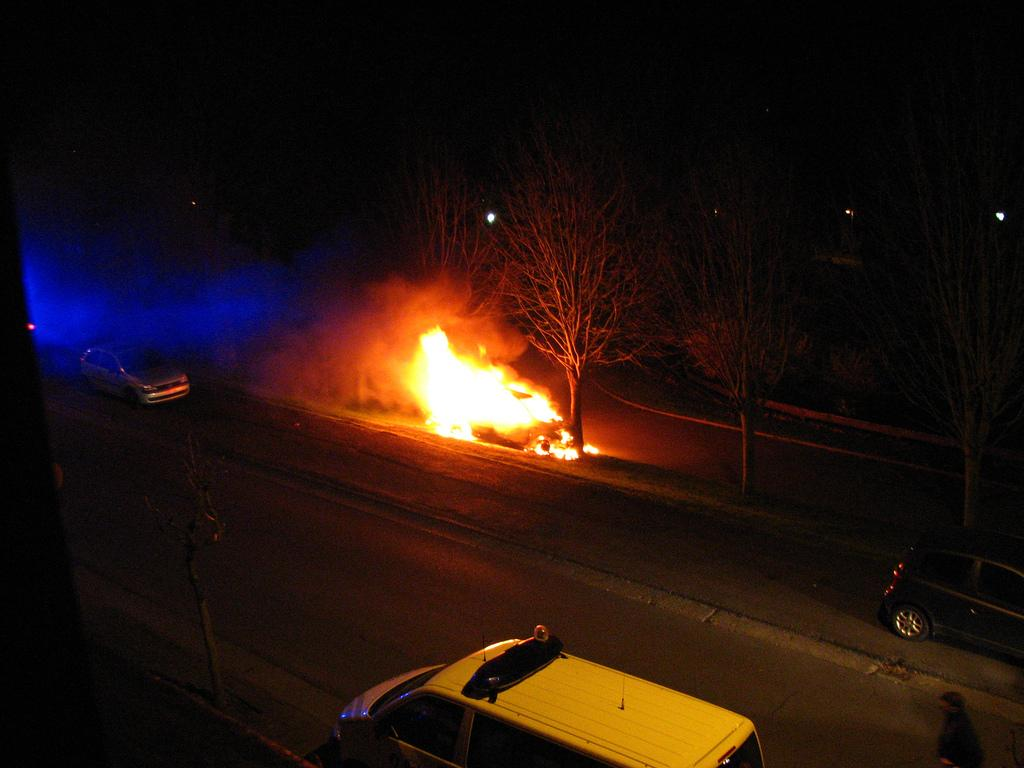fire: (430, 350, 528, 412)
